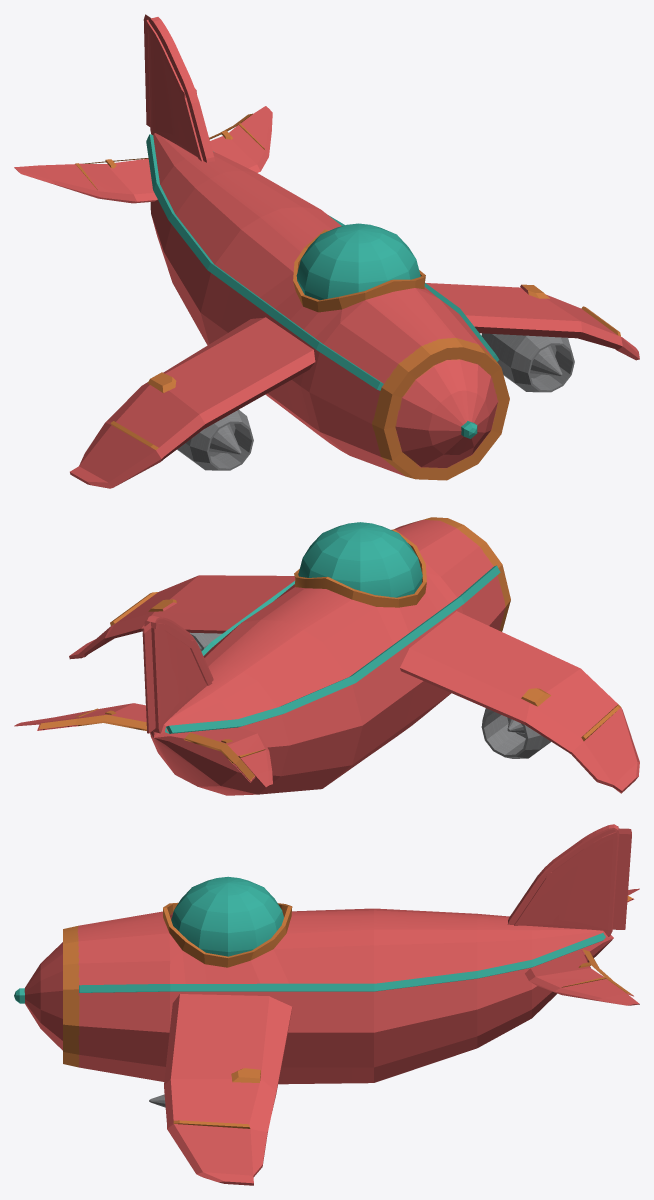
The model's file is AvionRo.fbx.
3 views of the same model, one above another, from view 1: azimuth 30°, elevation 25°; view 2: azimuth 150°, elevation 25°; view 3: azimuth 270°, elevation 25° (orthographic). The views are drawn at different scales.
Parts seen in each view (by area): view 1: Avion_R_; view 2: Avion_R_; view 3: Avion_R_.
Boxes of the visible parts, x1,y1,x2,y2 form: Avion_R_: (14,14,639,488); Avion_R_: (14,517,639,795); Avion_R_: (14,824,639,1185).
Bounding box in the file's own units: 32.19 × 14.94 × 33.67.
